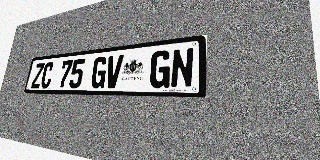5: (68, 58, 85, 88)
7: (57, 60, 73, 88)
C: (40, 62, 54, 88)
G: (149, 49, 172, 88), (90, 56, 108, 88)
N: (170, 47, 194, 88)
V: (104, 54, 124, 88)
Z: (31, 63, 45, 88)
